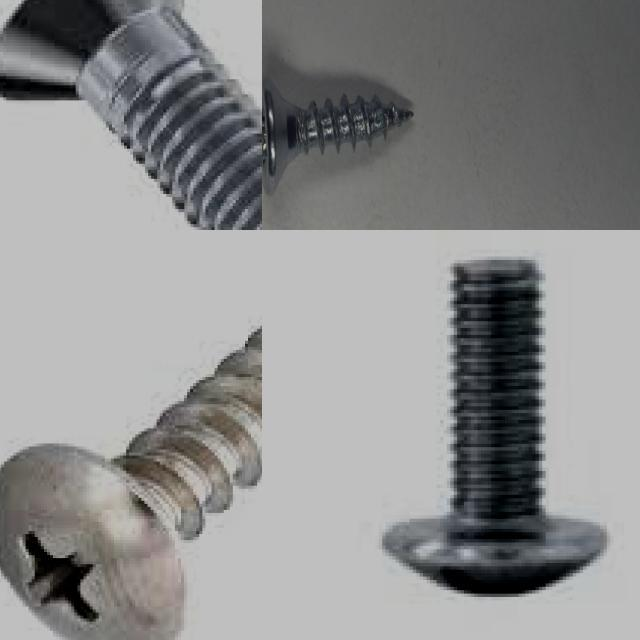Screw: (0, 328, 262, 640), (386, 257, 607, 597), (0, 0, 262, 230), (262, 76, 414, 195)
